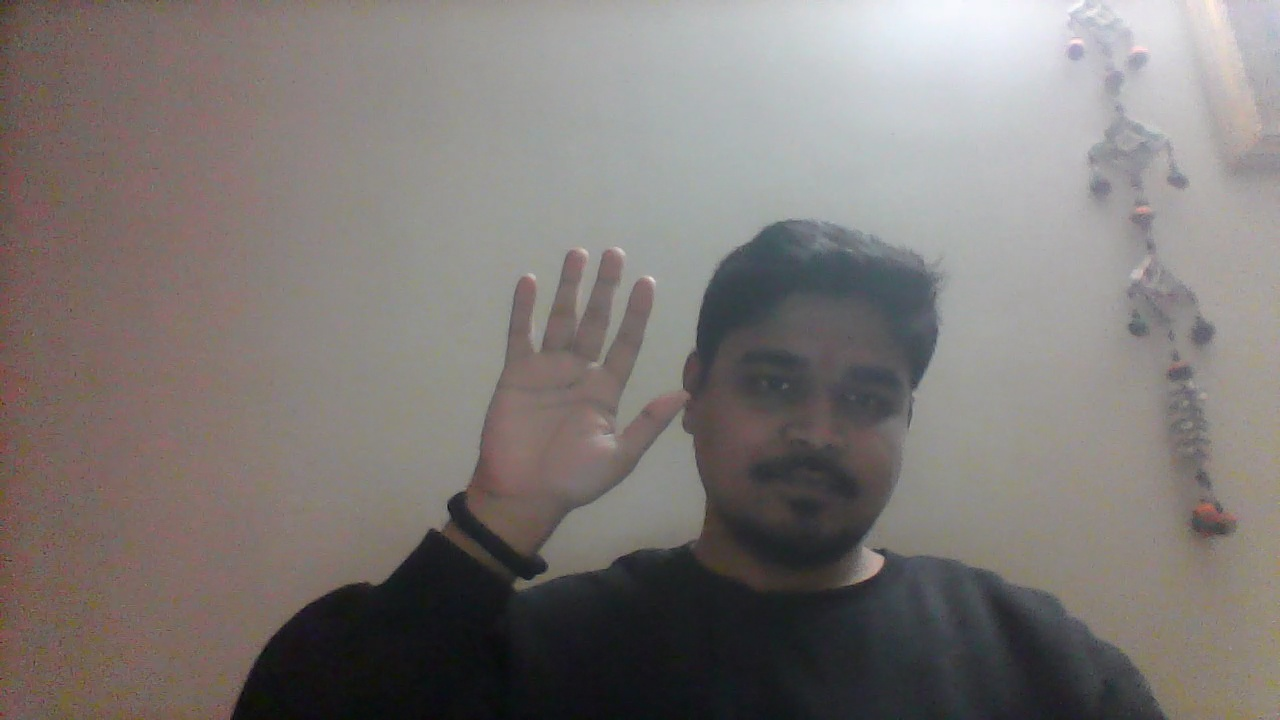Hello: (476, 244, 685, 520)
